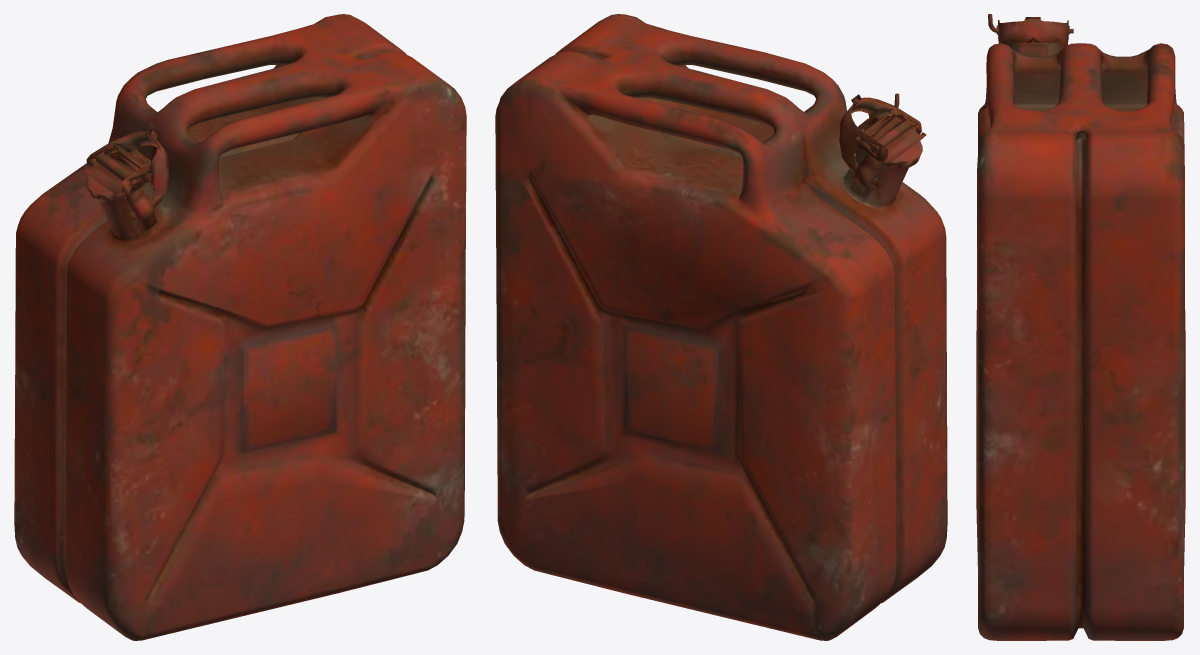
The model's file is metal_jerrycan.glb.
The picture shows the model from 3 angles, left to right: view 1: azimuth 30°, elevation 25°; view 2: azimuth 150°, elevation 25°; view 3: azimuth 270°, elevation 25°; orthographic projection. The views are drawn at different scales.
Parts seen in each view (by area): view 1: metal_jerrycan; view 2: metal_jerrycan; view 3: metal_jerrycan.
Boxes of the visible parts, x1=… form: metal_jerrycan: x1=14, y1=14, x2=466, y2=640; metal_jerrycan: x1=495, y1=14, x2=947, y2=640; metal_jerrycan: x1=976, y1=14, x2=1185, y2=640.
Size of the model in its own units: 0.35 by 0.4548 by 0.1717.
Materials: 1 (1 with a texture image).
